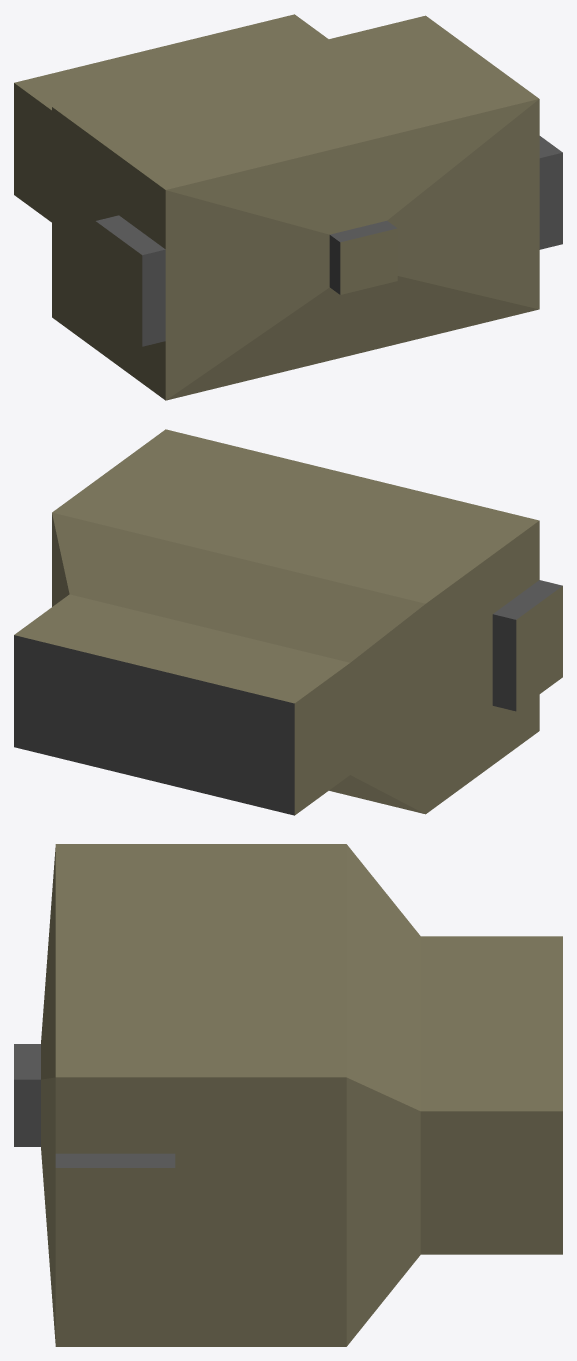
Rendered from body1.obj.
The picture shows the model from 3 angles, top to bottom: view 1: azimuth 30°, elevation 25°; view 2: azimuth 150°, elevation 25°; view 3: azimuth 270°, elevation 25°; orthographic projection. The views are drawn at different scales.
Parts seen in each view (by area): view 1: MechBody1; view 2: MechBody1; view 3: MechBody1.
Part boxes in pixels (bbox=[...]): MechBody1: bbox=[14, 14, 562, 400]; MechBody1: bbox=[14, 429, 562, 815]; MechBody1: bbox=[14, 844, 562, 1346].
Bounding box in the file's own units: 5.05 × 2.41 × 4.46.
Materials: 1 (1 with a texture image).
